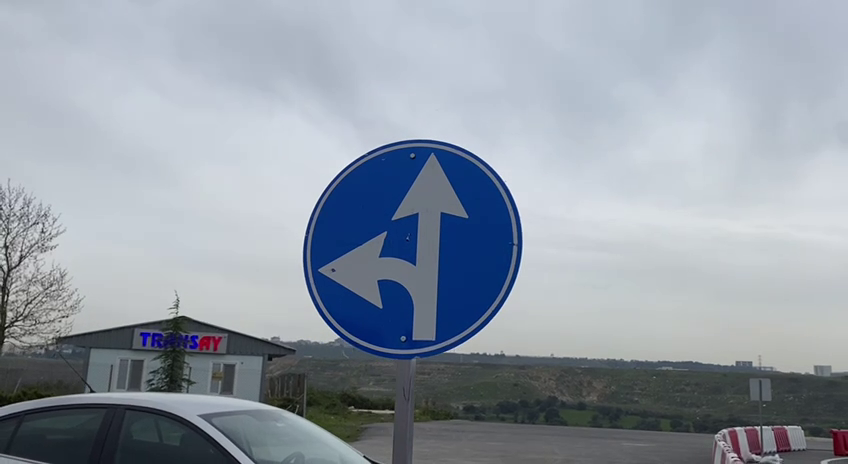forwardAndLeft: (294, 137, 531, 365)
